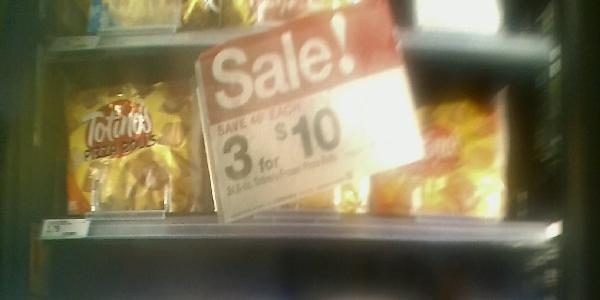icecream: (212, 67, 373, 216), (60, 71, 214, 215), (375, 86, 507, 224)
